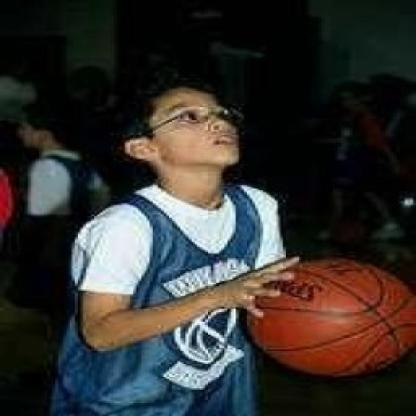basketball: (242, 252, 416, 385)
